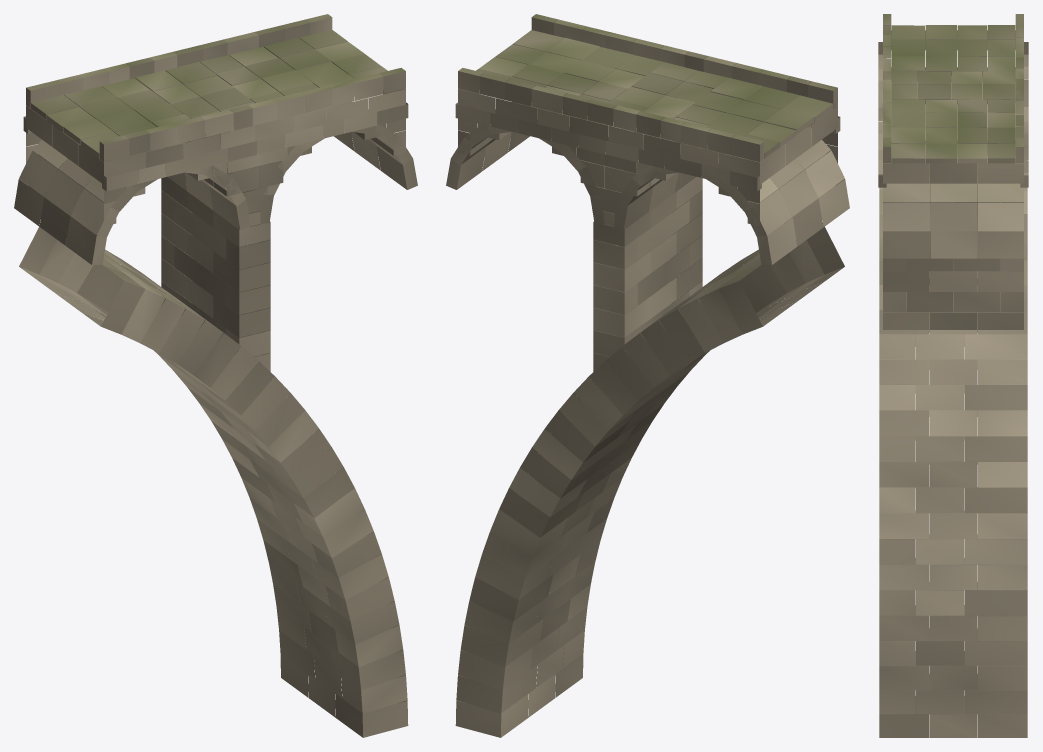
The model's file is bridge_haunch_mid.glb.
3 views of the same model, side by side, from view 1: azimuth 30°, elevation 25°; view 2: azimuth 150°, elevation 25°; view 3: azimuth 270°, elevation 25° (orthographic). The views are drawn at different scales.
Parts seen in each view (by area): view 1: bridge_haunch_mid; view 2: bridge_haunch_mid; view 3: bridge_haunch_mid.
Boxes of the visible parts, left/top/right/bottom form: bridge_haunch_mid: left=14, top=14, right=417, bottom=737; bridge_haunch_mid: left=446, top=14, right=849, bottom=737; bridge_haunch_mid: left=878, top=14, right=1028, bottom=737.
Bounding box in the file's own units: 36.16 × 69.36 × 15.97.
